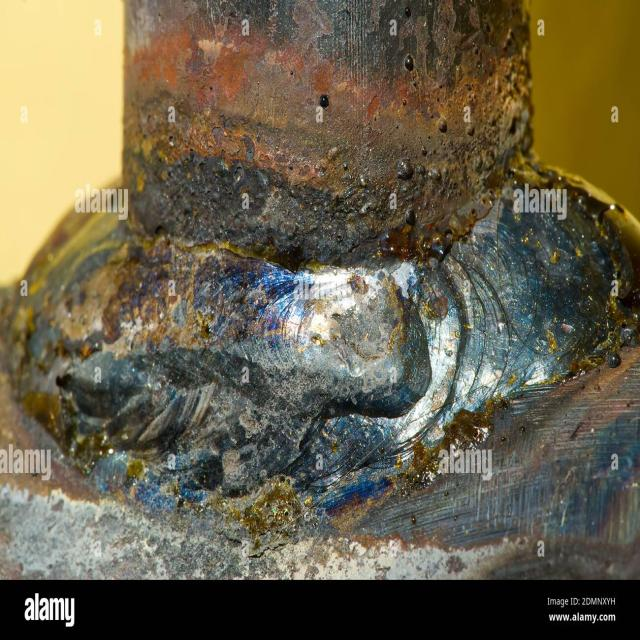Dry Waste: (21, 196, 604, 522)
